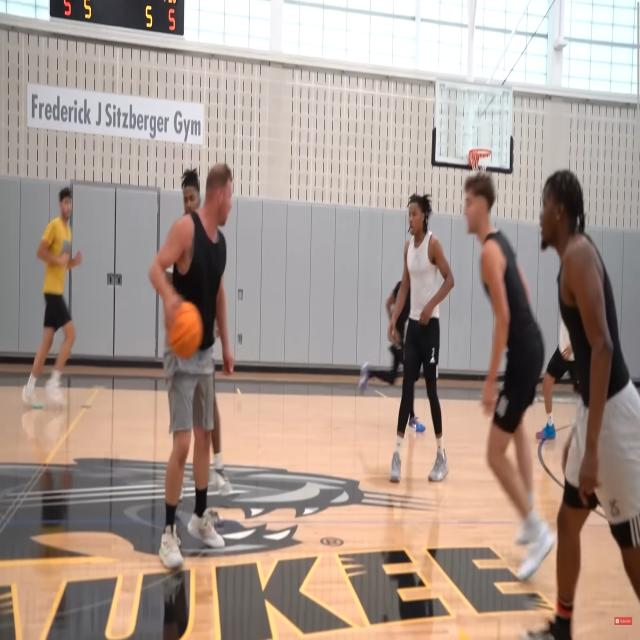Basketball: (166, 302, 202, 358)
Basketball Rim: (470, 147, 491, 172)
Player: (538, 170, 639, 640), (463, 173, 555, 580), (148, 162, 236, 569), (390, 193, 454, 482), (22, 186, 83, 410)
